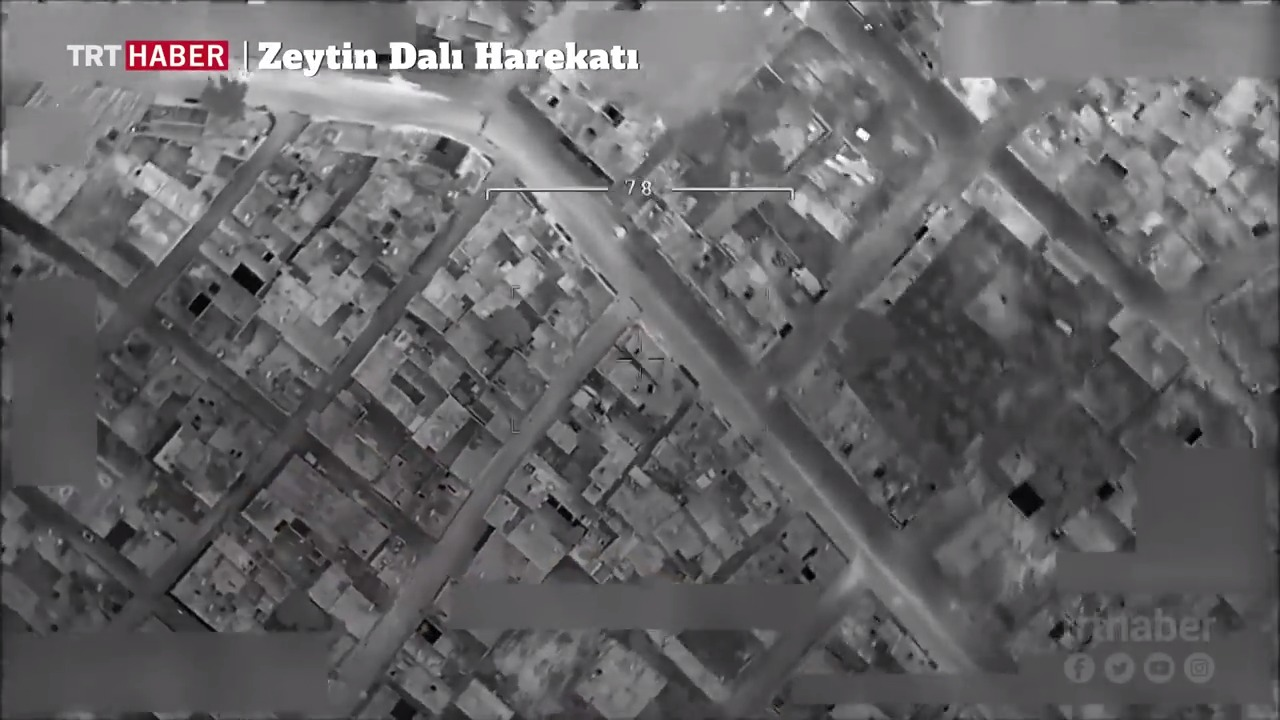bina: (344, 325, 477, 454)
